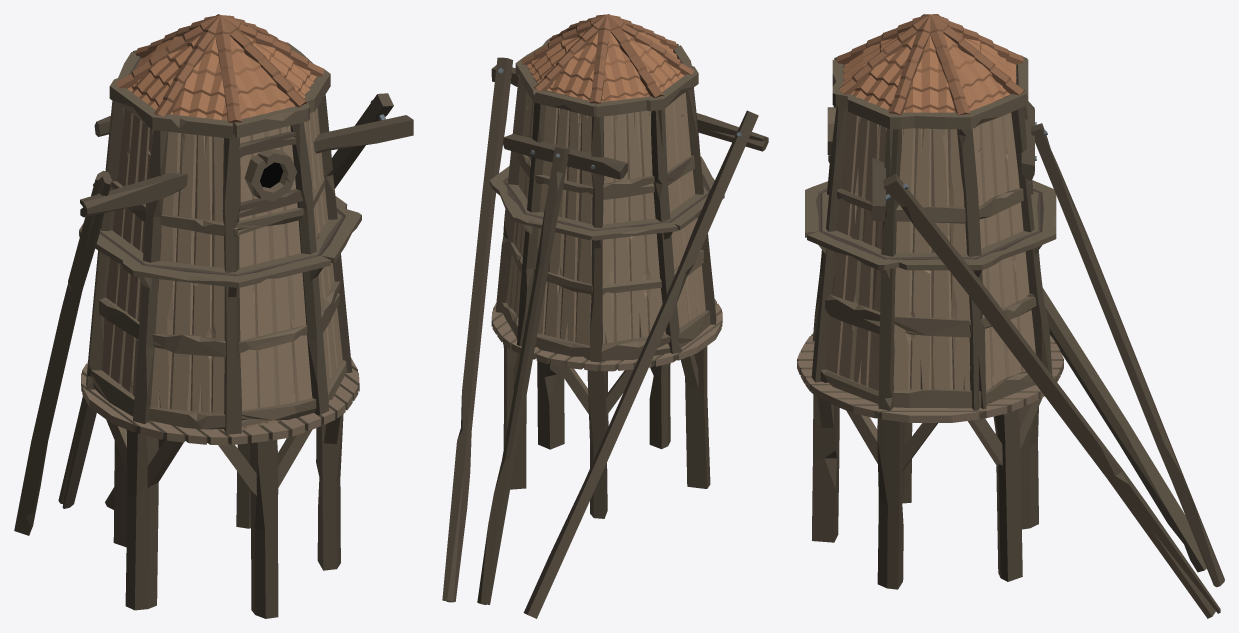
The model's file is SM_Bld_Windmill_01.glb.
3 views of the same model, side by side, from view 1: azimuth 30°, elevation 25°; view 2: azimuth 150°, elevation 25°; view 3: azimuth 270°, elevation 25° (orthographic). The views are drawn at different scales.
Parts seen in each view (by area): view 1: SM_Bld_Windmill_01; view 2: SM_Bld_Windmill_01; view 3: SM_Bld_Windmill_01.
Boxes of the visible parts, <box> form: SM_Bld_Windmill_01: <box>14,14,413,618</box>; SM_Bld_Windmill_01: <box>442,14,768,618</box>; SM_Bld_Windmill_01: <box>797,14,1224,618</box>.
Size of the model in its own units: 5.74 by 10.29 by 6.84.
1 material, 1 textured.
